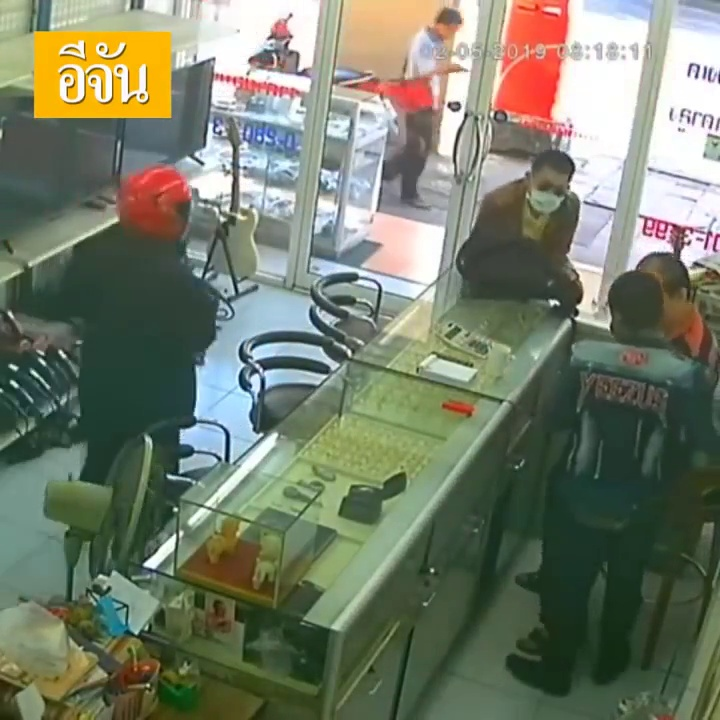helmet: (114, 147, 192, 247)
